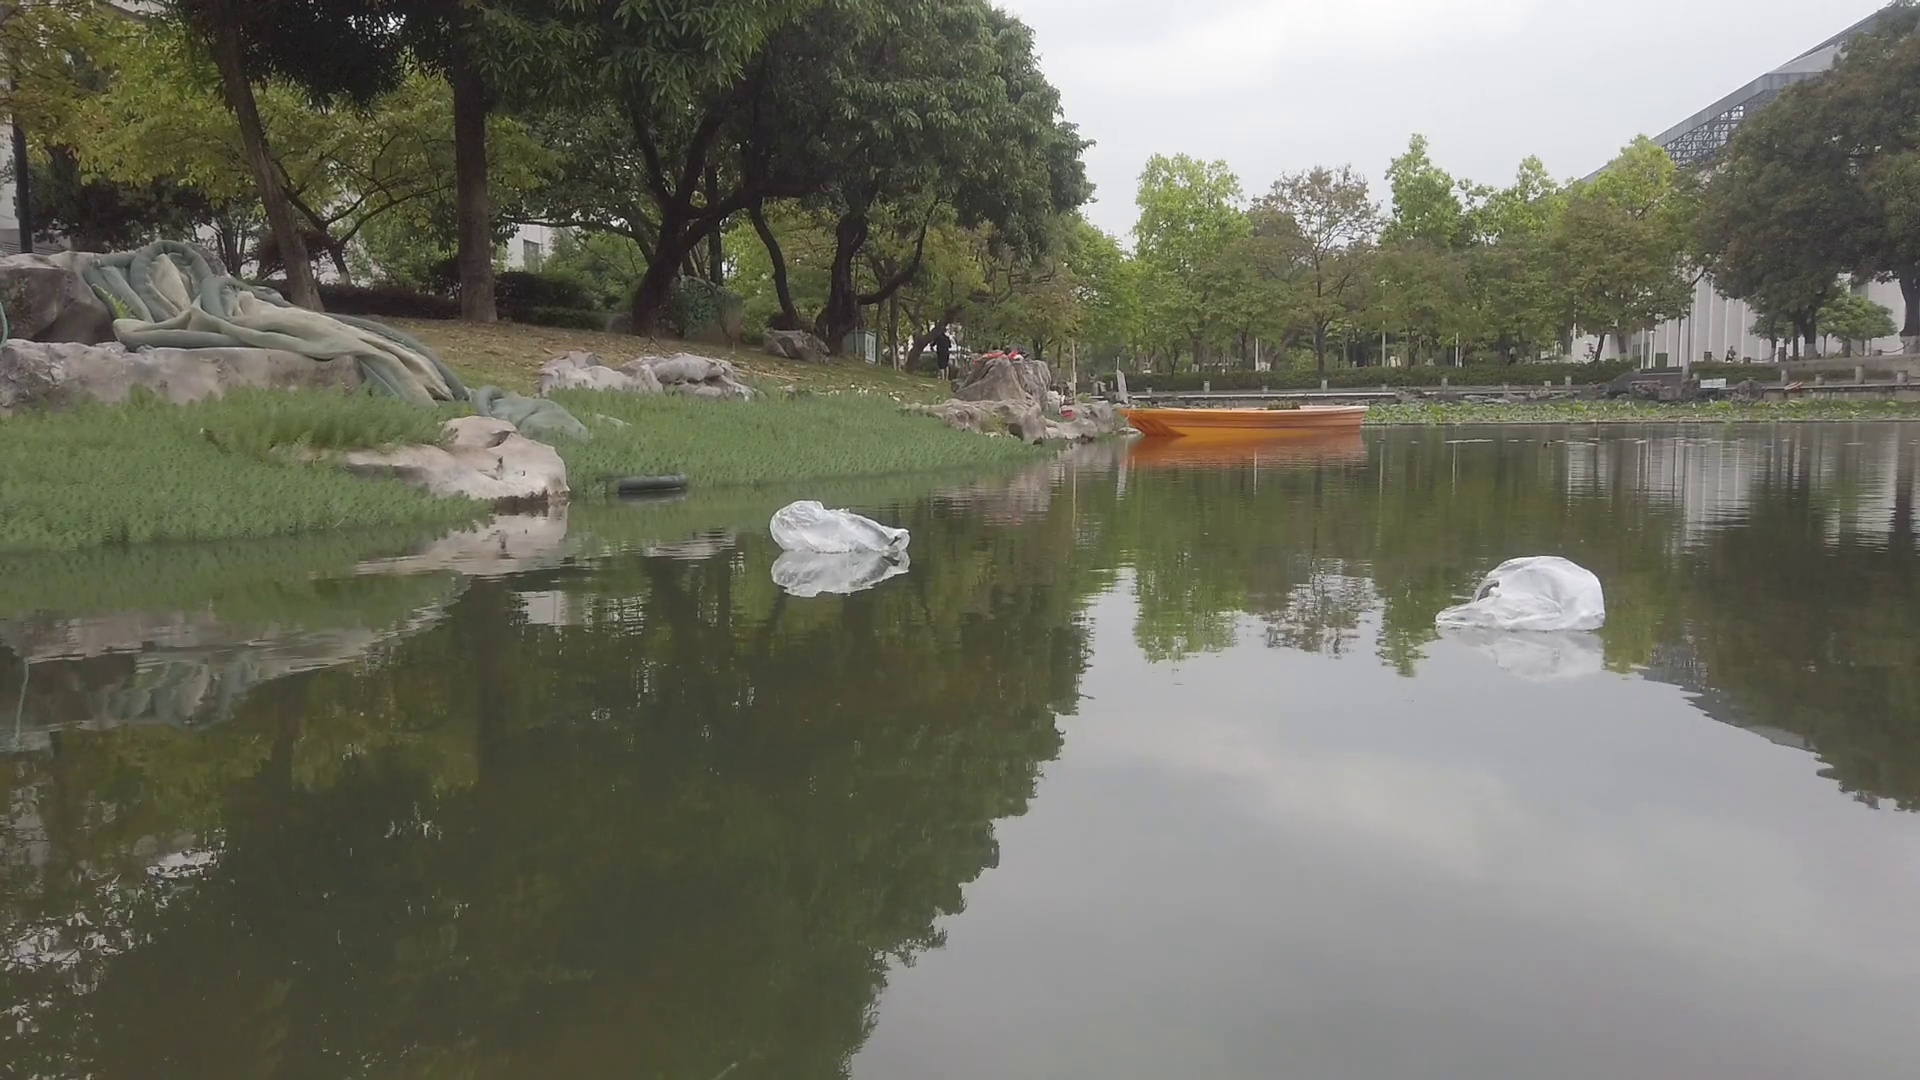plastic: (1433, 553, 1609, 641), (764, 502, 920, 556)
